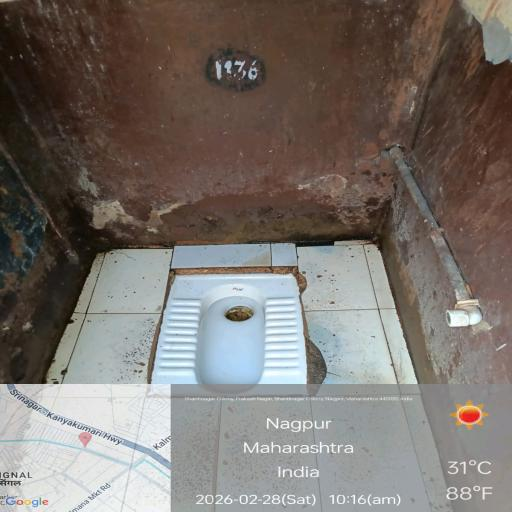clean_indian: (116, 256, 344, 447)
dirty_floor: (17, 8, 473, 274)
partial_dirty_floor: (58, 362, 482, 512)
